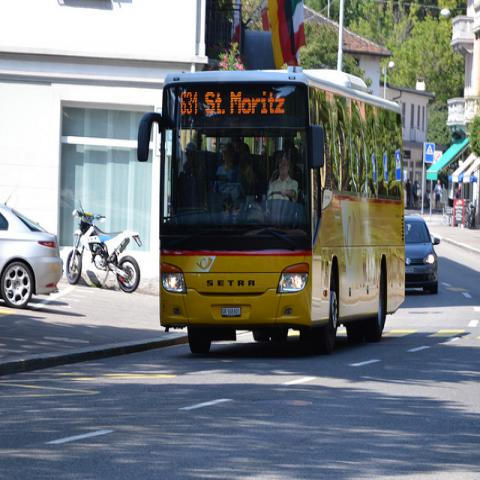bus: (138, 62, 406, 362)
car: (1, 191, 64, 309), (404, 215, 440, 295)
motorcycle: (67, 202, 144, 294)
